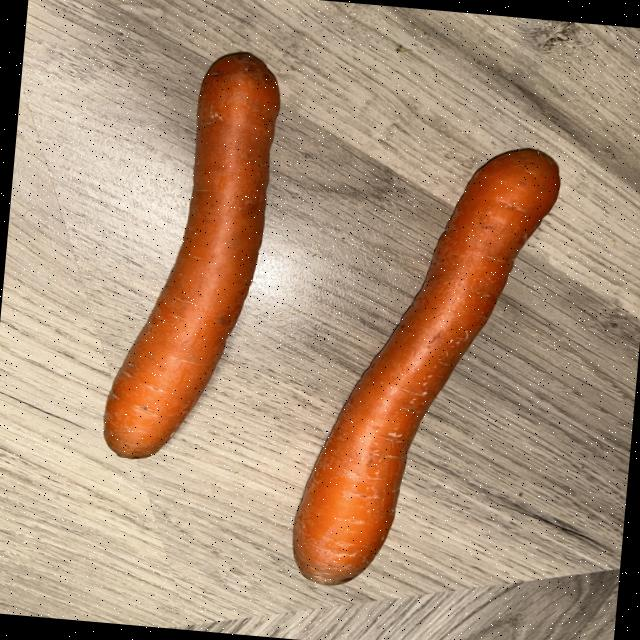carrot: (291, 148, 558, 584), (102, 52, 279, 457)
